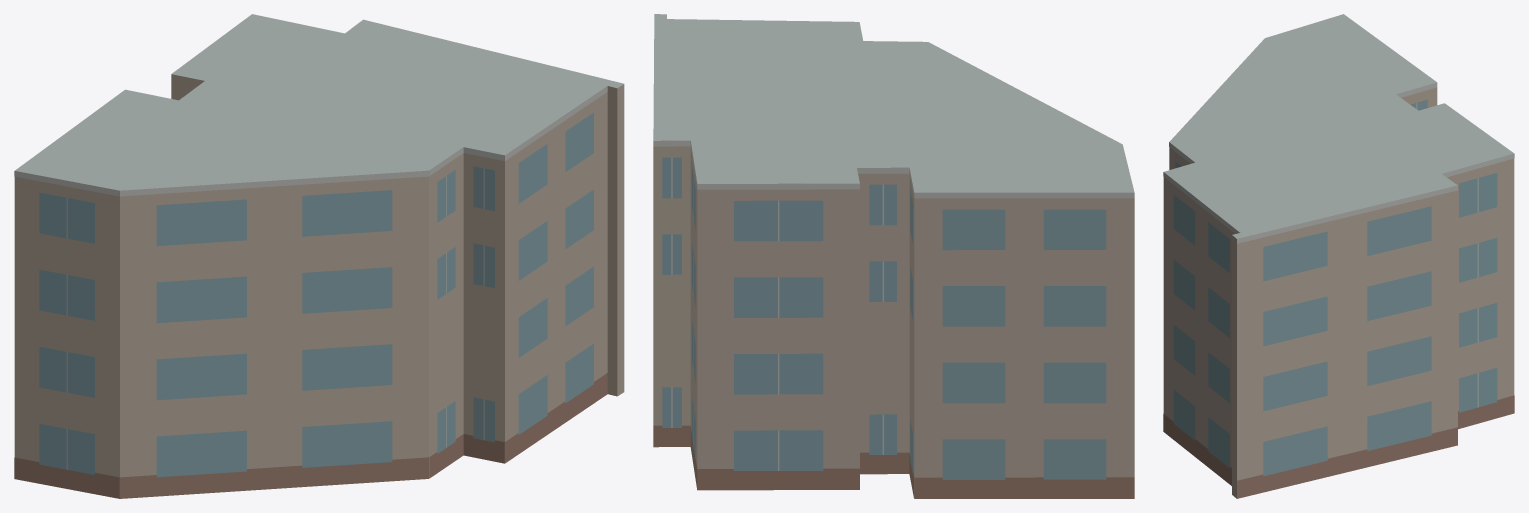
The model's file is survey-upis-32748771.glb.
3 renders of one model, left to right at view 1: azimuth 30°, elevation 25°; view 2: azimuth 150°, elevation 25°; view 3: azimuth 270°, elevation 25°, orthographic. The views are drawn at different scales.
Parts seen in each view (by area): view 1: survey-upis-32748771.tmp; view 2: survey-upis-32748771.tmp; view 3: survey-upis-32748771.tmp.
Boxes of the visible parts, bbox=[...] form: survey-upis-32748771.tmp: bbox=[14, 14, 624, 498]; survey-upis-32748771.tmp: bbox=[653, 14, 1134, 498]; survey-upis-32748771.tmp: bbox=[1163, 14, 1514, 498].
Size of the model in its own units: 24 by 12.93 by 15.82.
